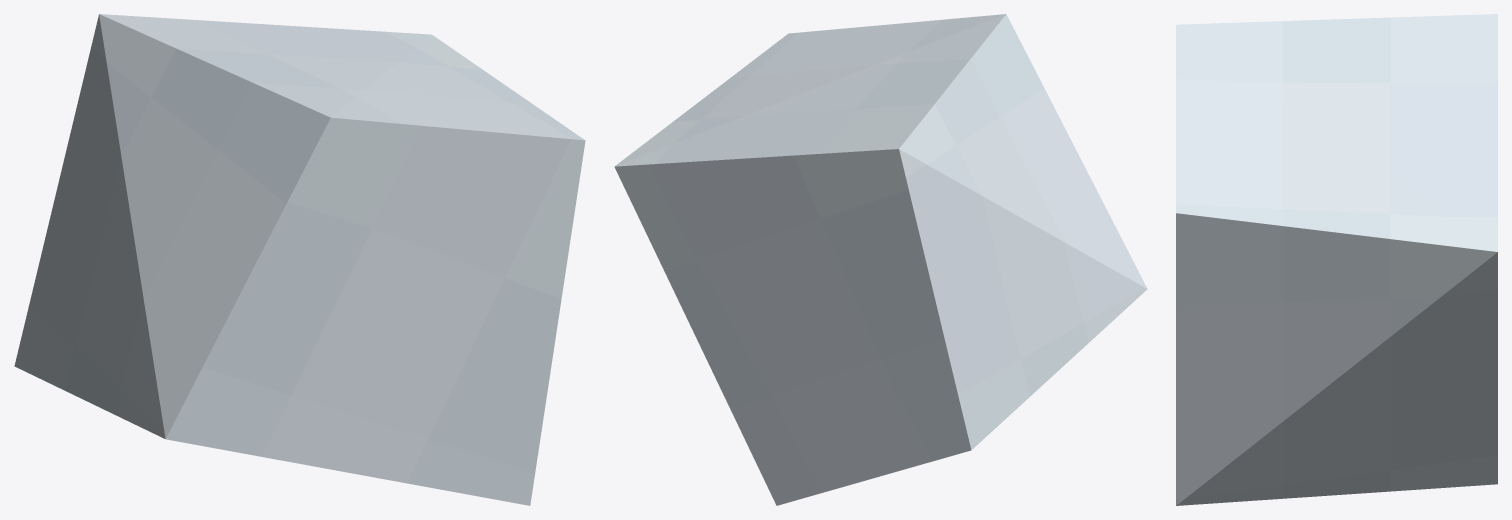
The model's file is zbq-11m00000000632457-geode.glb.
The picture shows the model from 3 angles, left to right: view 1: azimuth 30°, elevation 25°; view 2: azimuth 150°, elevation 25°; view 3: azimuth 270°, elevation 25°; orthographic projection. The views are drawn at different scales.
Parts seen in each view (by area): view 1: Node; view 2: Node; view 3: Node.
Boxes of the visible parts, x1=… form: Node: x1=14, y1=14, x2=585, y2=505; Node: x1=614, y1=14, x2=1147, y2=505; Node: x1=1176, y1=14, x2=1497, y2=505.
Bounding box in the file's own units: 1.55 × 1.55 × 1.08.
1 material, 1 textured.
